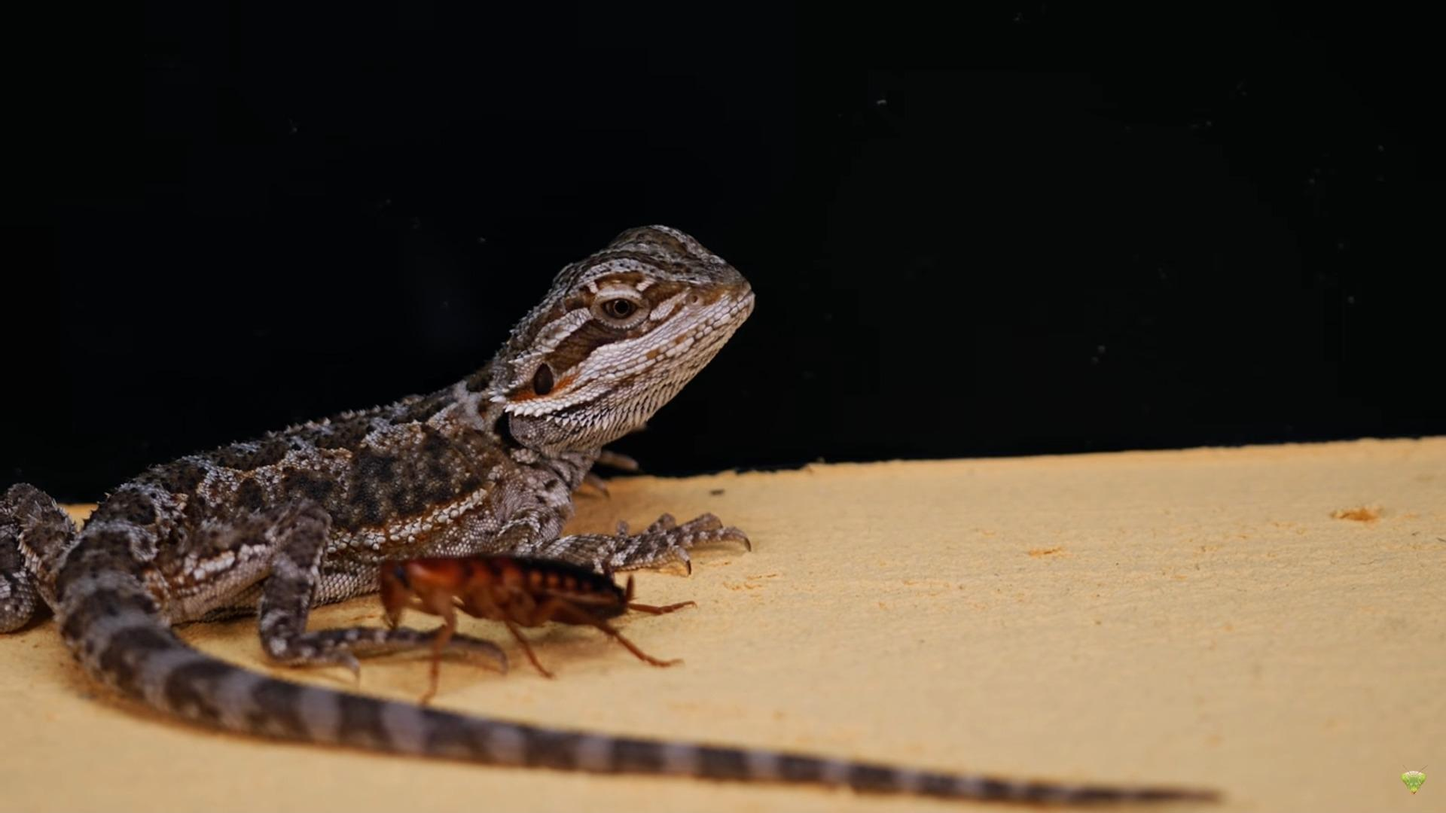cockroach: (368, 530, 677, 680)
lizard: (0, 215, 788, 789)
